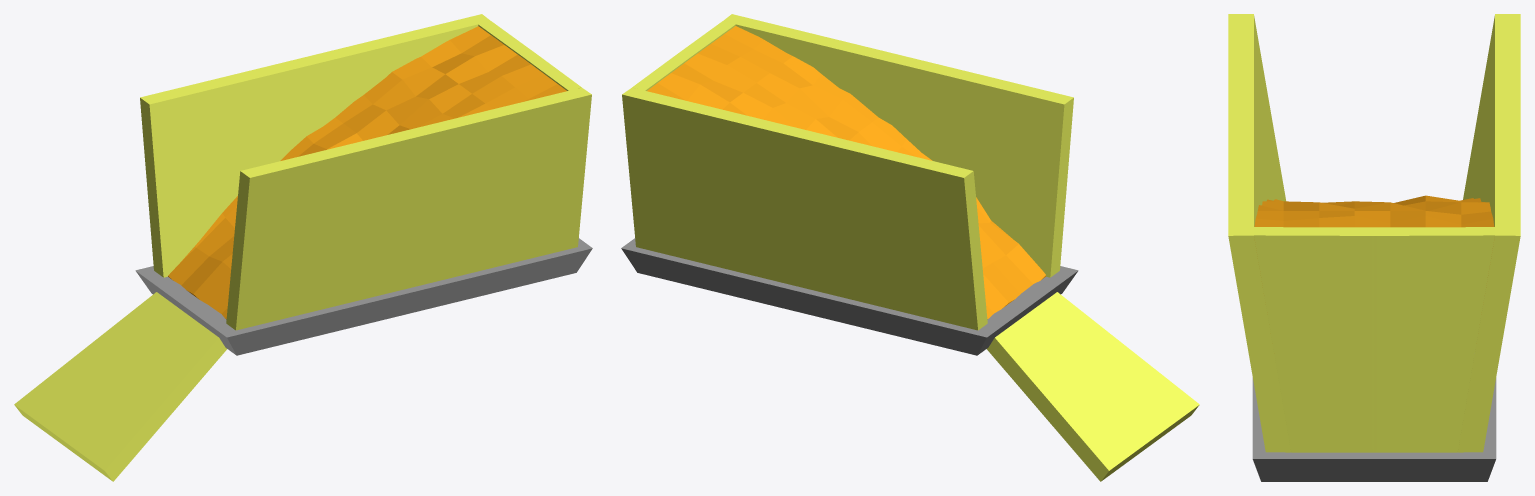
The model's file is train (2).fbx.
3 renders of one model, left to right at view 1: azimuth 30°, elevation 25°; view 2: azimuth 150°, elevation 25°; view 3: azimuth 270°, elevation 25°, orthographic. The views are drawn at different scales.
Parts seen in each view (by area): view 1: Cube, sand, Cube.001; view 2: Cube, sand, Cube.001; view 3: Cube, Cube.001, sand.
Part boxes in pixels (x1,y1,x2,y2): Cube: (14, 14, 591, 481); sand: (168, 26, 566, 319); Cube.001: (135, 238, 592, 355); Cube: (622, 14, 1199, 481); sand: (647, 26, 1045, 319); Cube.001: (621, 238, 1078, 355); Cube: (1228, 14, 1520, 452); Cube.001: (1252, 378, 1496, 481); sand: (1254, 195, 1494, 227).
Bounding box in the file's own units: 2850 × 1565 × 1114.
